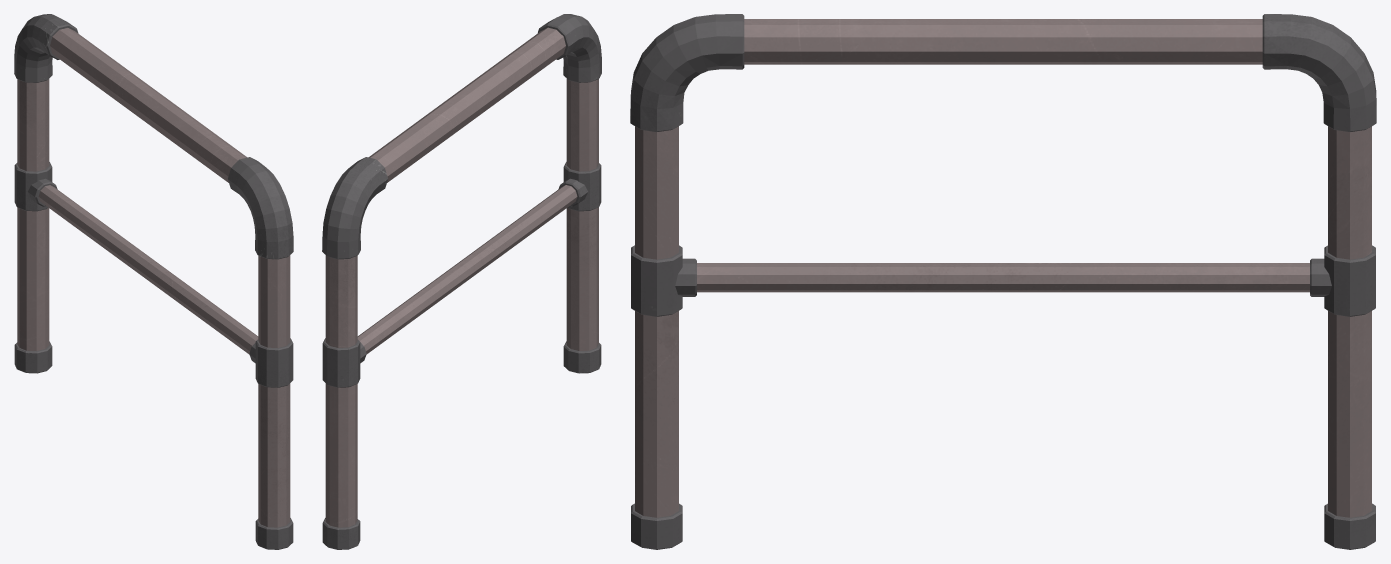
The model's file is Large_Grid_922.obj.
3 views of the same model, side by side, from view 1: azimuth 30°, elevation 25°; view 2: azimuth 150°, elevation 25°; view 3: azimuth 270°, elevation 25° (orthographic). The views are drawn at different scales.
Visible parts, largest first — view 1: Large_Grid_922_part1, Large_Grid_922_part2; view 2: Large_Grid_922_part1, Large_Grid_922_part2; view 3: Large_Grid_922_part1, Large_Grid_922_part2.
Part boxes in pixels (left/top/right/bottom): Large_Grid_922_part1: left=17, top=28, right=290, bottom=527; Large_Grid_922_part2: left=14, top=14, right=293, bottom=549; Large_Grid_922_part1: left=325, top=27, right=598, bottom=527; Large_Grid_922_part2: left=322, top=14, right=601, bottom=549; Large_Grid_922_part1: left=635, top=19, right=1371, bottom=517; Large_Grid_922_part2: left=630, top=14, right=1376, bottom=549.
Bounding box in the file's own units: 0.0967 × 0.9961 × 1.29.
Materials: 2 (2 with a texture image).
